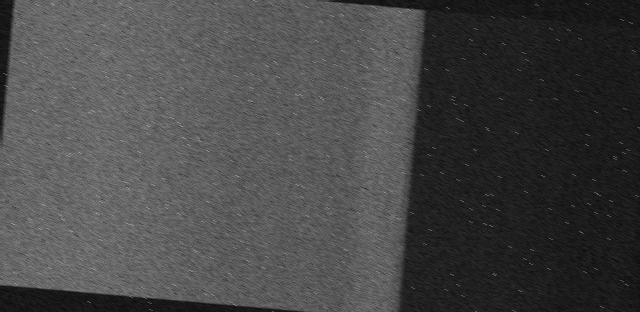inclusion: (324, 105, 342, 118)
